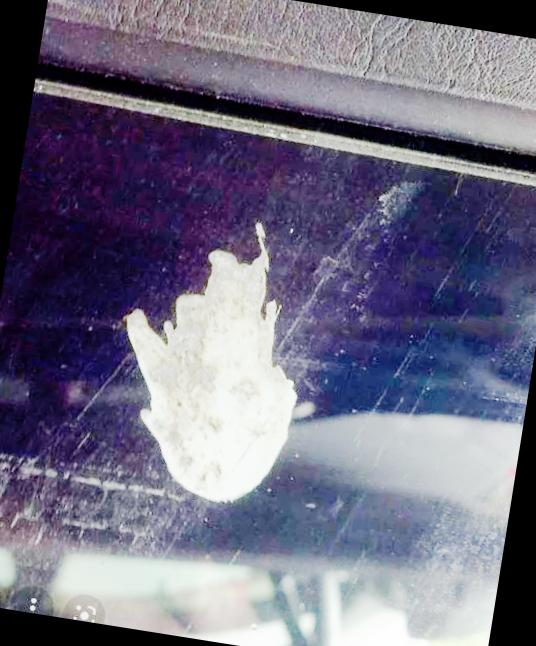Bird Poop: (127, 223, 297, 501)
